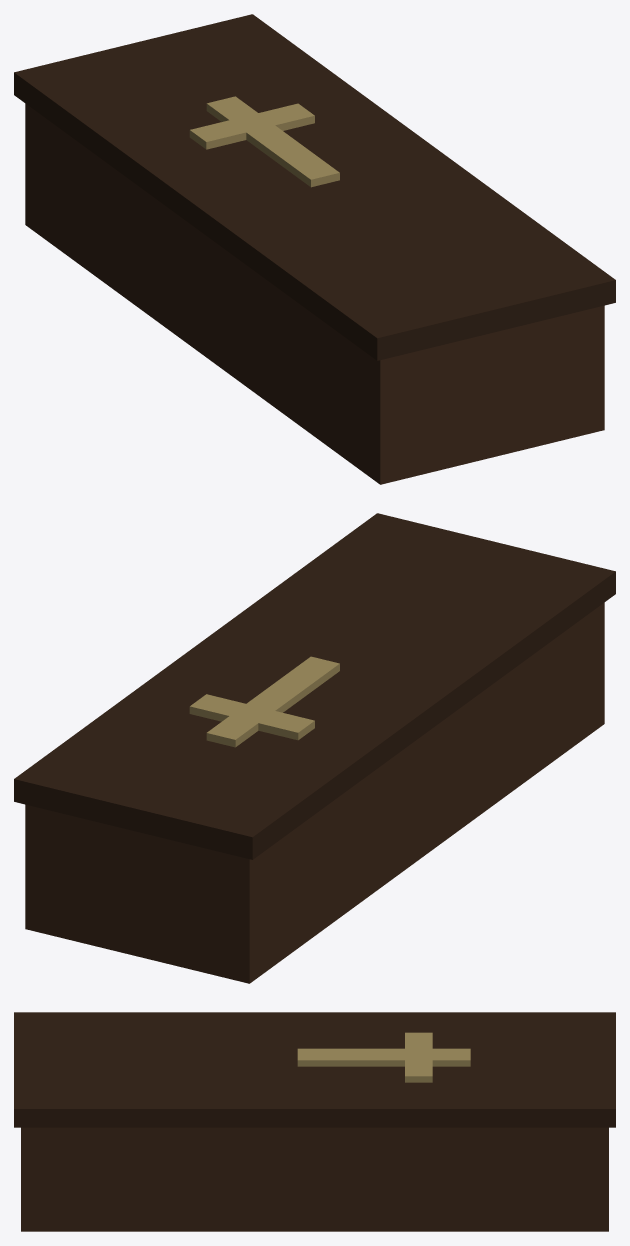
The model's file is coffin.ae8a8aac.glb.
The picture shows the model from 3 angles, top to bottom: view 1: azimuth 30°, elevation 25°; view 2: azimuth 150°, elevation 25°; view 3: azimuth 270°, elevation 25°; orthographic projection. The views are drawn at different scales.
Parts seen in each view (by area): view 1: body; view 2: body; view 3: body.
Part boxes in pixels (x1,y1,x2,y2): body: (14,14,615,484); body: (14,513,615,983); body: (14,1012,615,1231).
Bounding box in the file's own units: 0.66 × 0.42 × 1.74.
